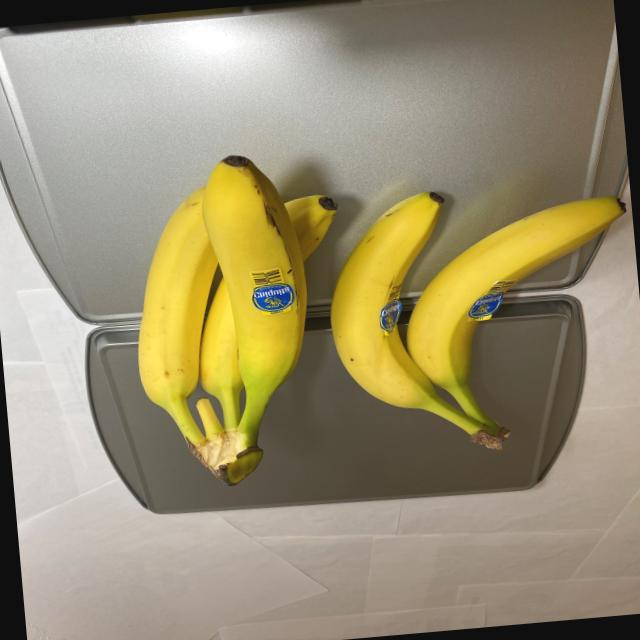banana: (314, 168, 640, 484), (114, 130, 364, 493)
